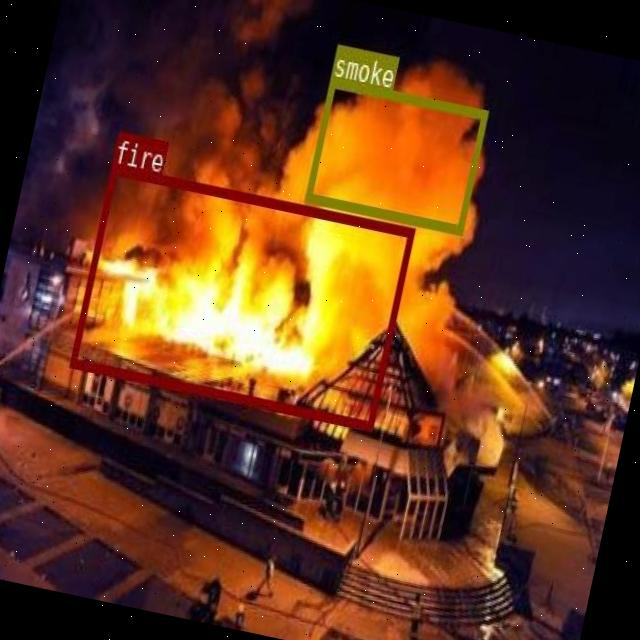fire: (68, 162, 414, 430)
smoke: (304, 75, 488, 234)
